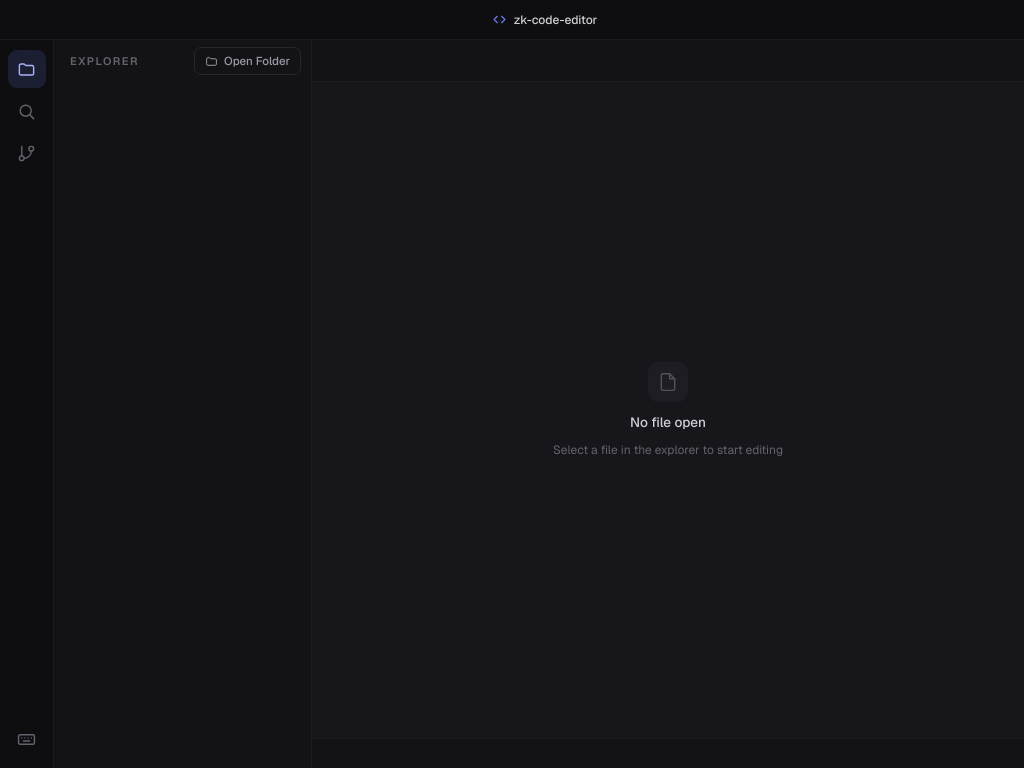
Test case: App integration › opening a folder then a file creates a tab and shows the editor
Click the button "Open Folder" at (248, 61), box [194,47,301,75]
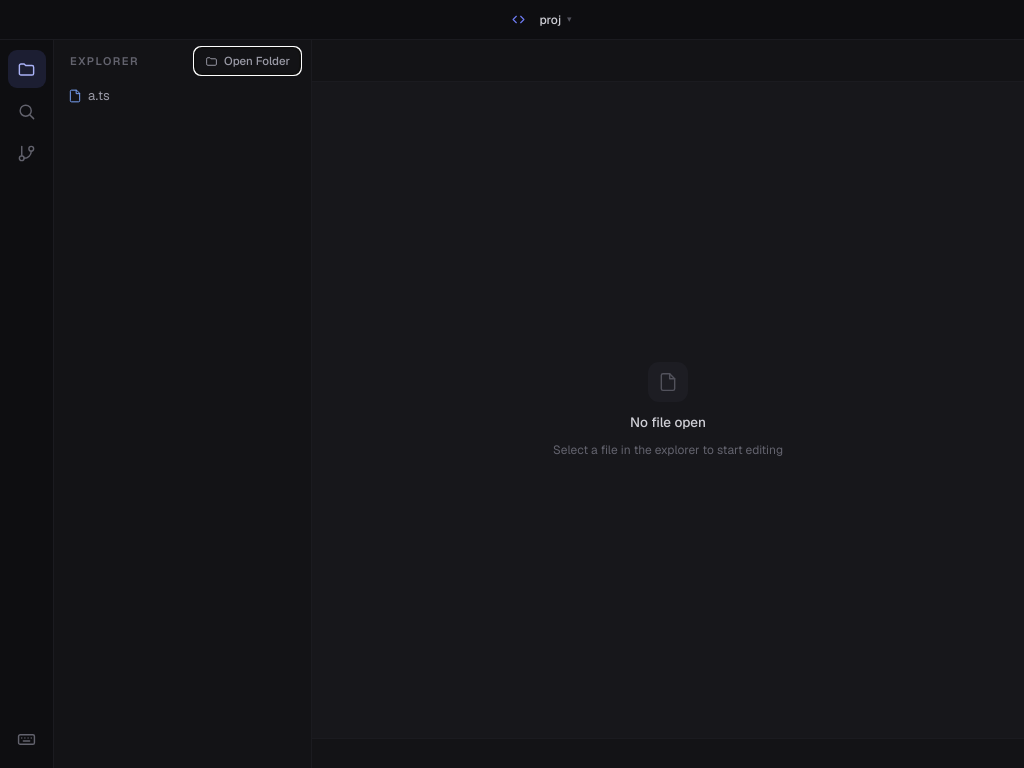
Click the text "a.ts" at (99, 96), box [88,86,110,105]
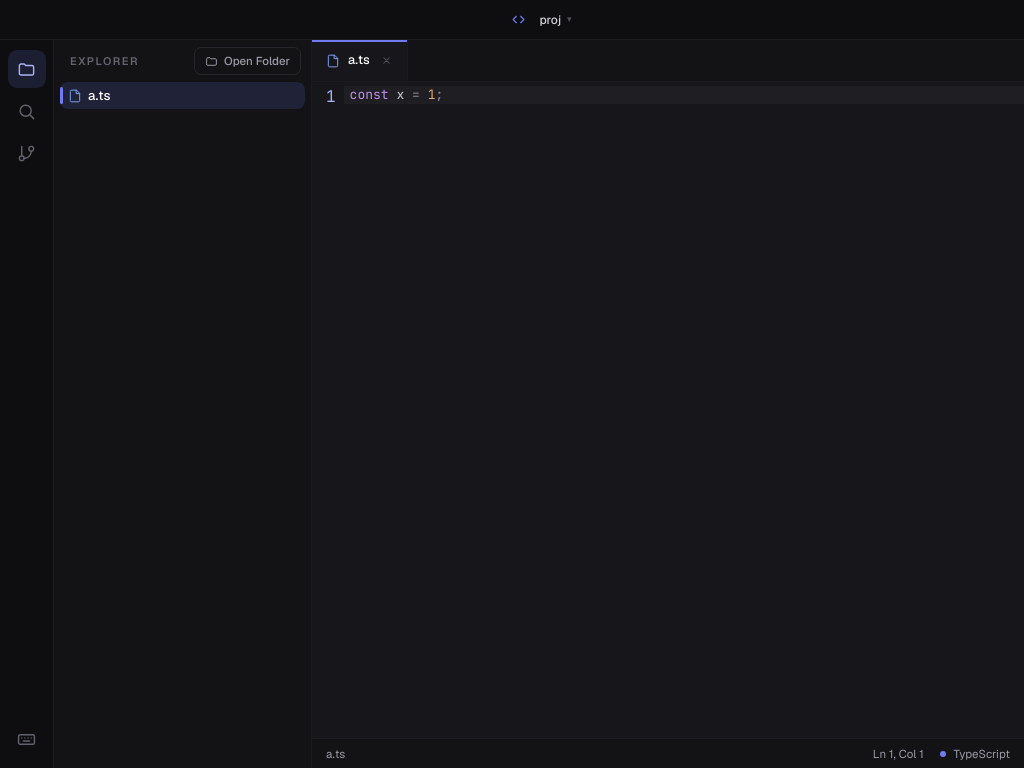
Now the tab "a.ts" is shown, box [312,40,408,81]
Now the text box labelled "const x = 1;" is shown, box [344,86,1023,104]
